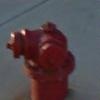Hydrant: (8, 15, 76, 100)
